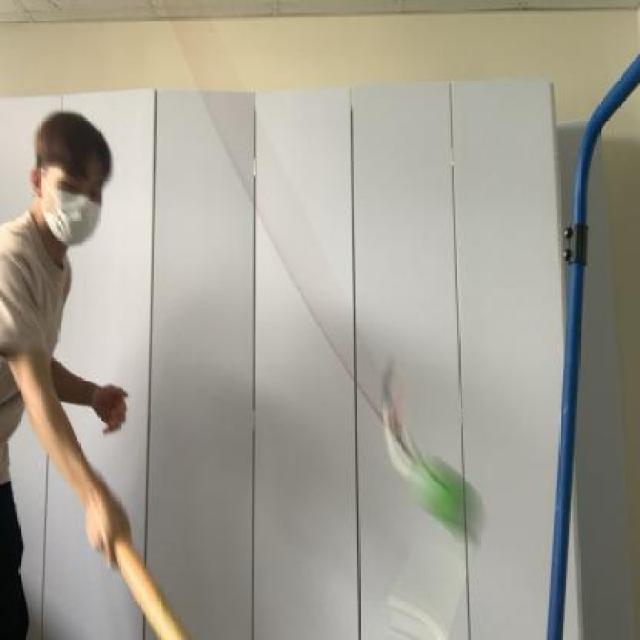baseball: (403, 441, 486, 545)
